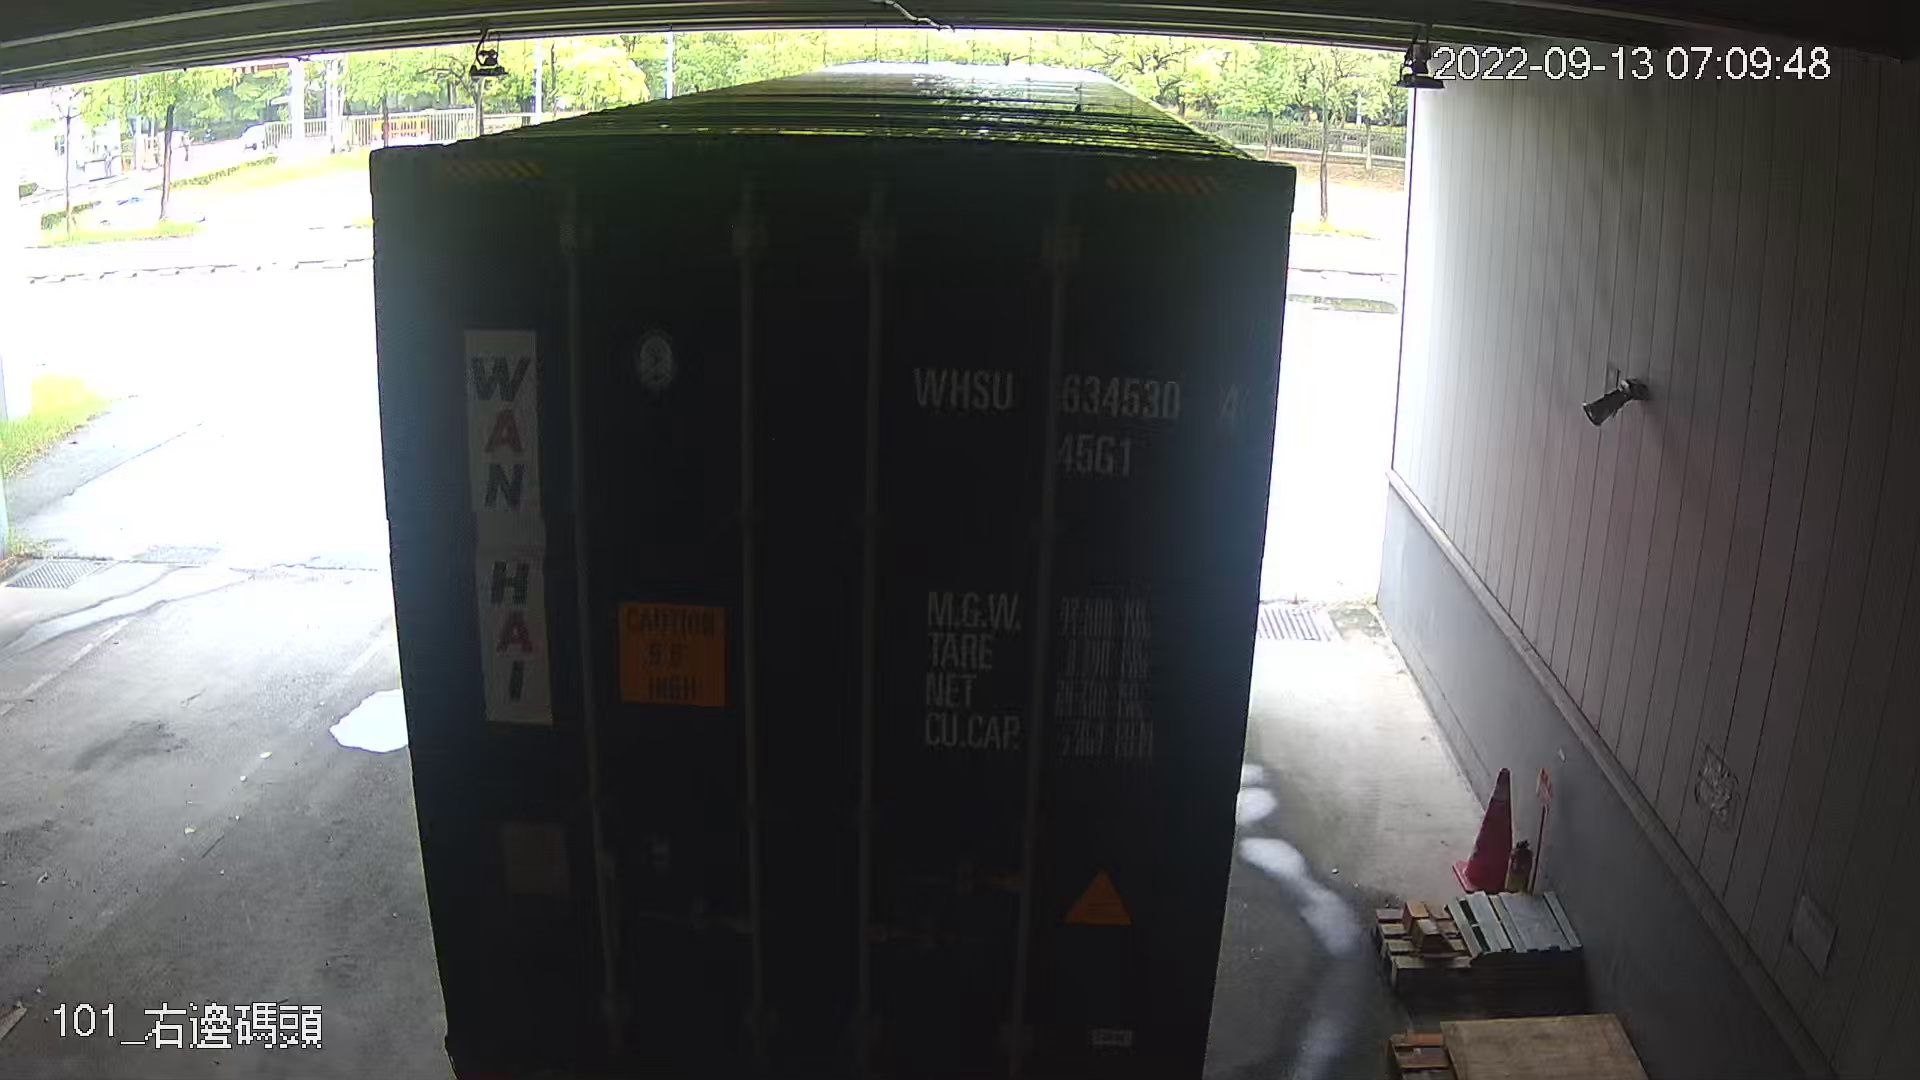container: (899, 351, 1253, 488)
